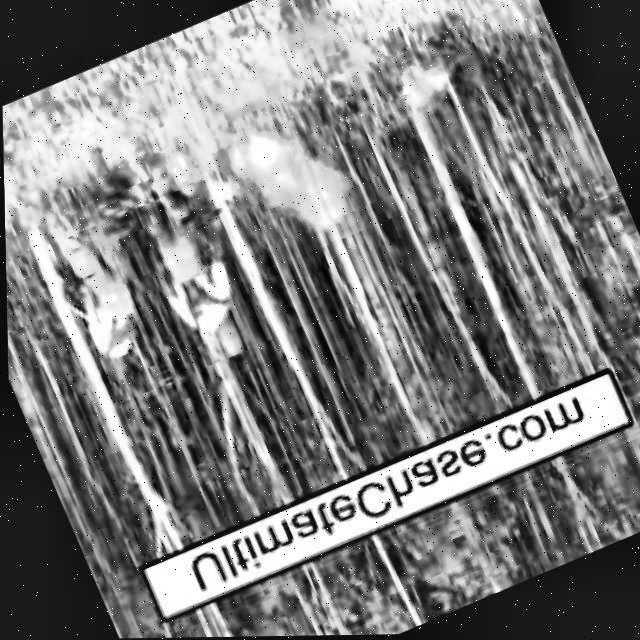Fire: (218, 105, 360, 255), (153, 133, 235, 217), (390, 52, 452, 114)
